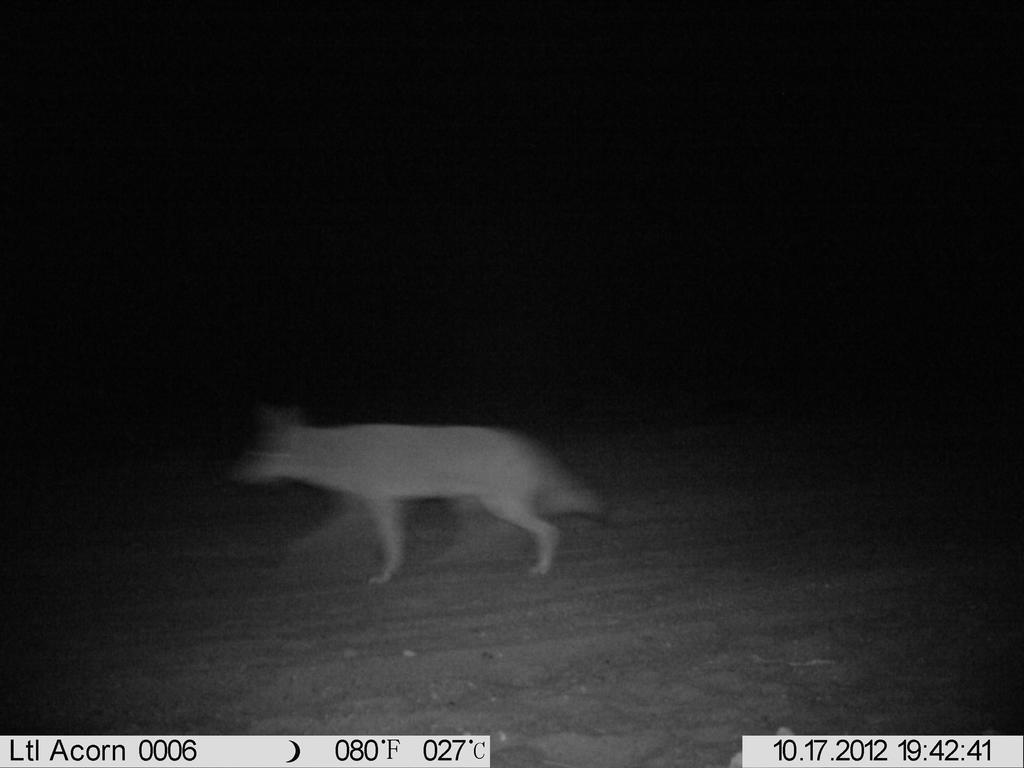coyote: (227, 399, 616, 584)
